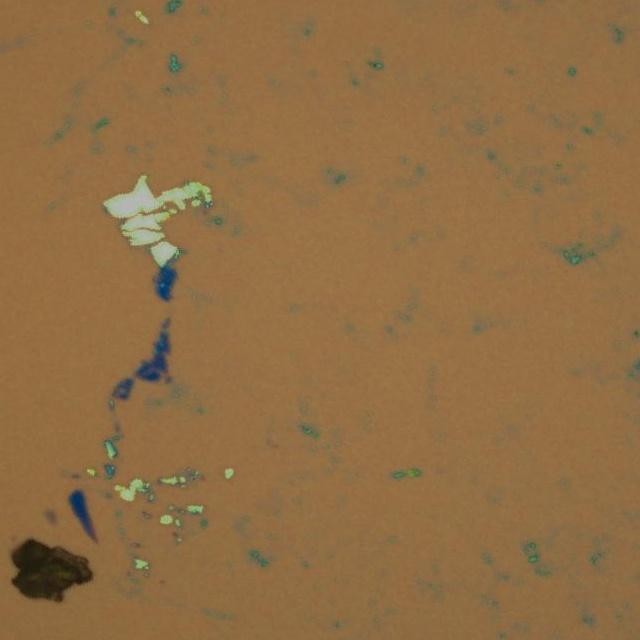monolayer-eWW4: (44, 508, 58, 524)
